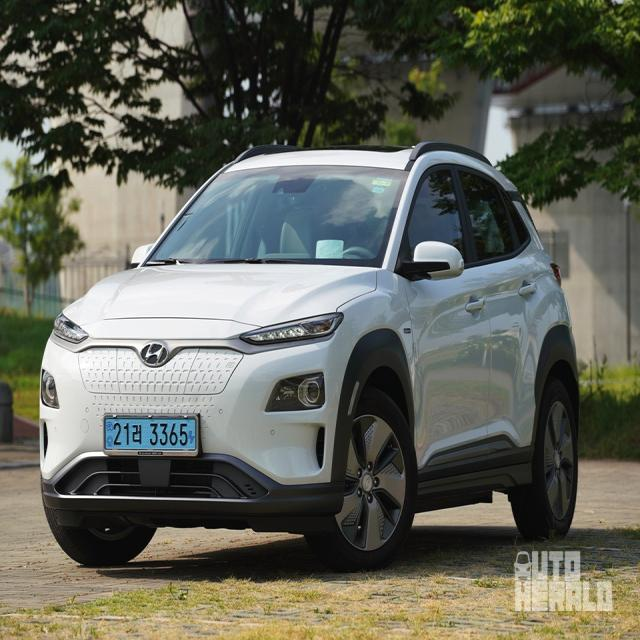EV_plate: (105, 414, 202, 461)
car: (39, 138, 580, 569)
